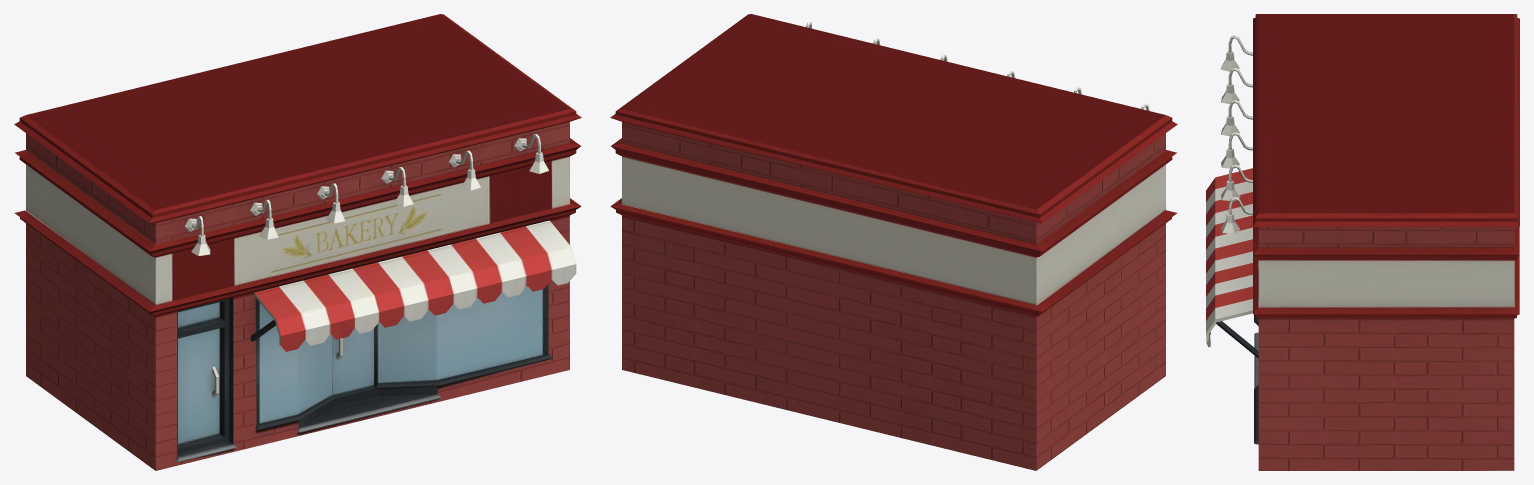
The model's file is bakery.glb.
3 views of the same model, side by side, from view 1: azimuth 30°, elevation 25°; view 2: azimuth 150°, elevation 25°; view 3: azimuth 270°, elevation 25° (orthographic).
Parts seen in each view (by area): view 1: Bakery_mesh; view 2: Bakery_mesh; view 3: Bakery_mesh.
Boxes of the visible parts, x1,y1,x2,y2 form: Bakery_mesh: [14, 14, 581, 470]; Bakery_mesh: [610, 14, 1177, 470]; Bakery_mesh: [1206, 14, 1519, 470].
Bounding box in the file's own units: 19.26 × 11.1 × 12.26.
1 material, 1 textured.
